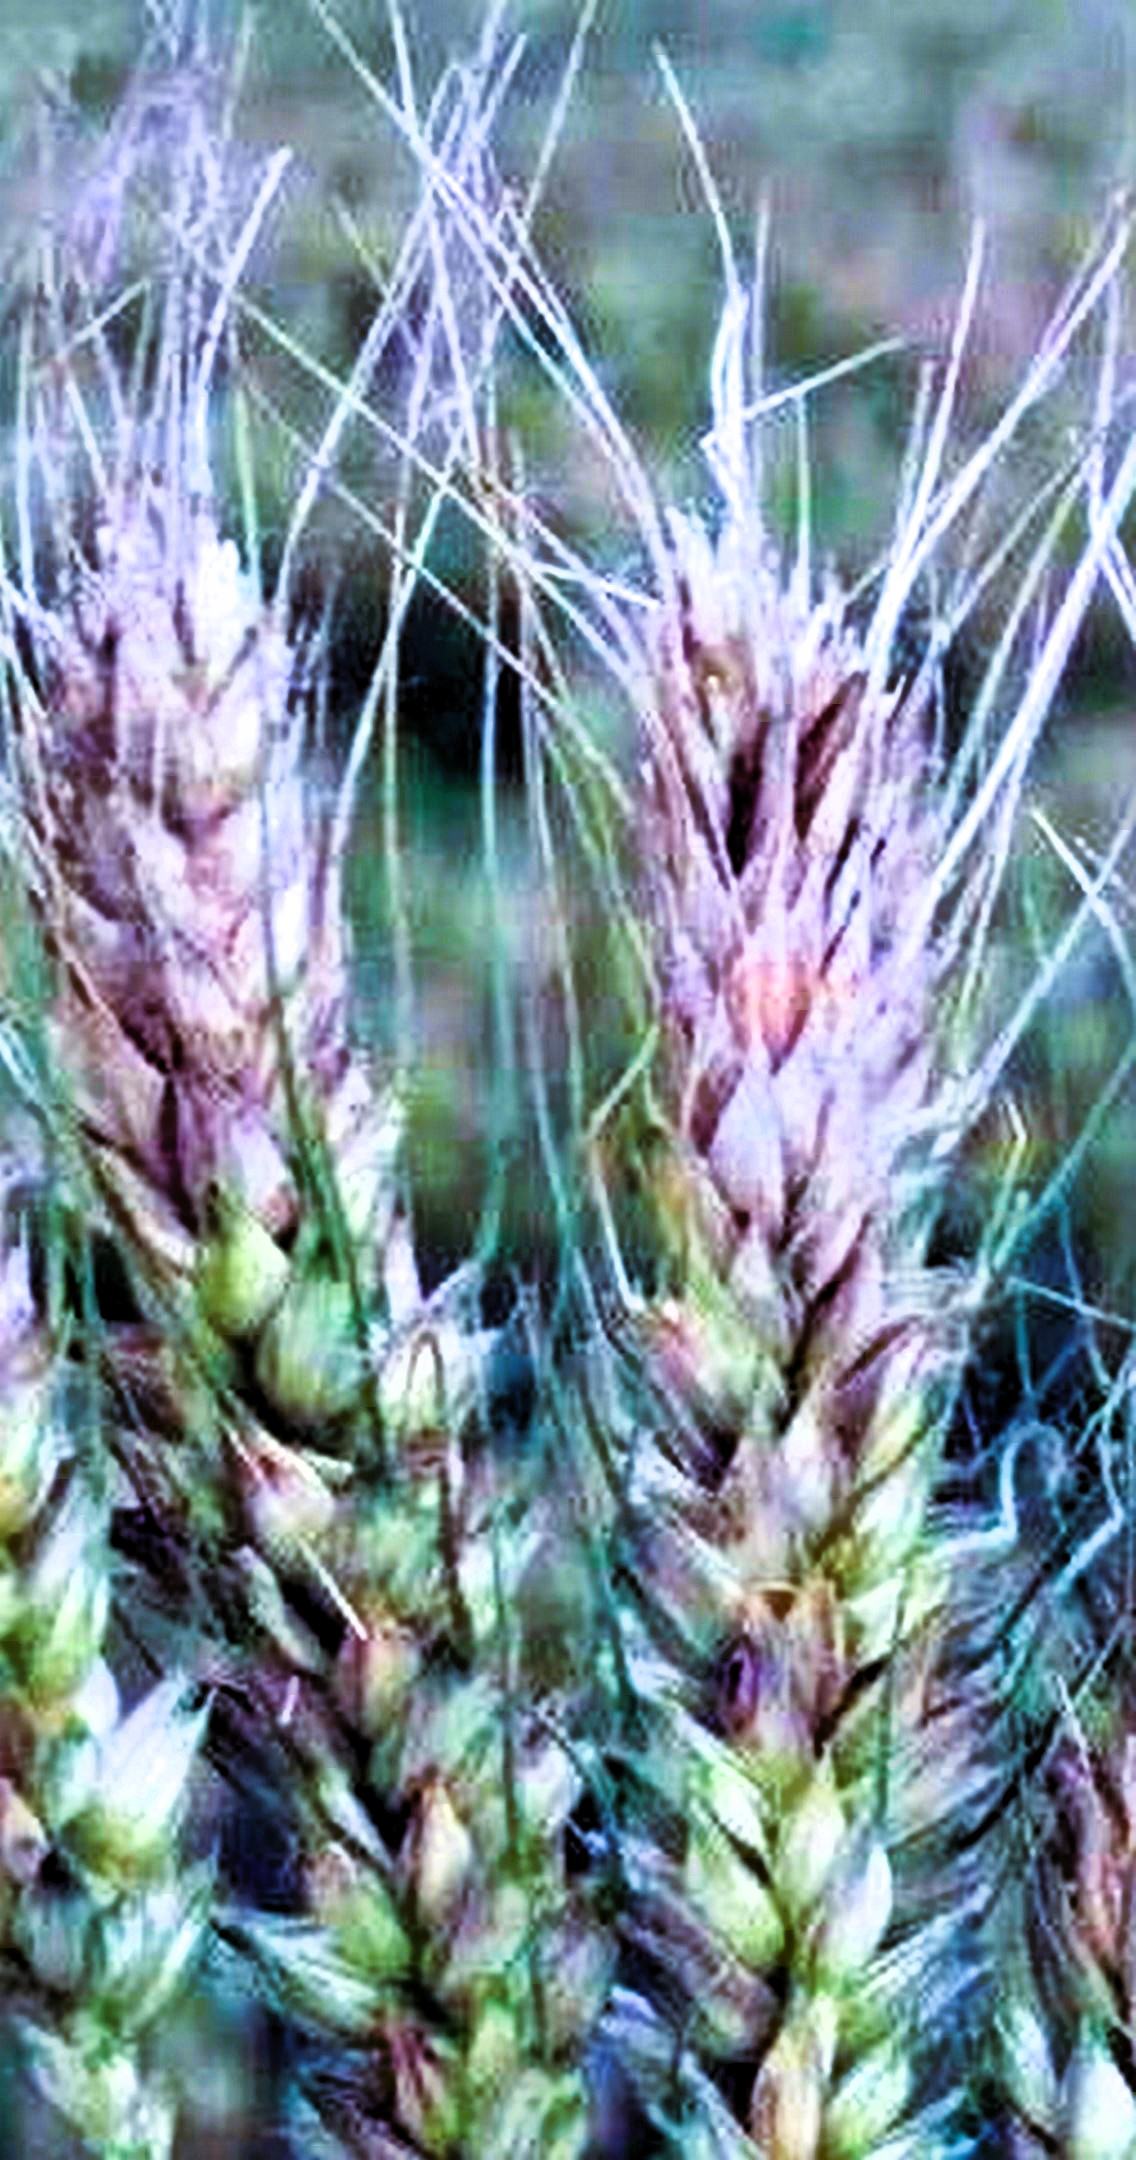Wheat scab: (7, 470, 523, 1511)
